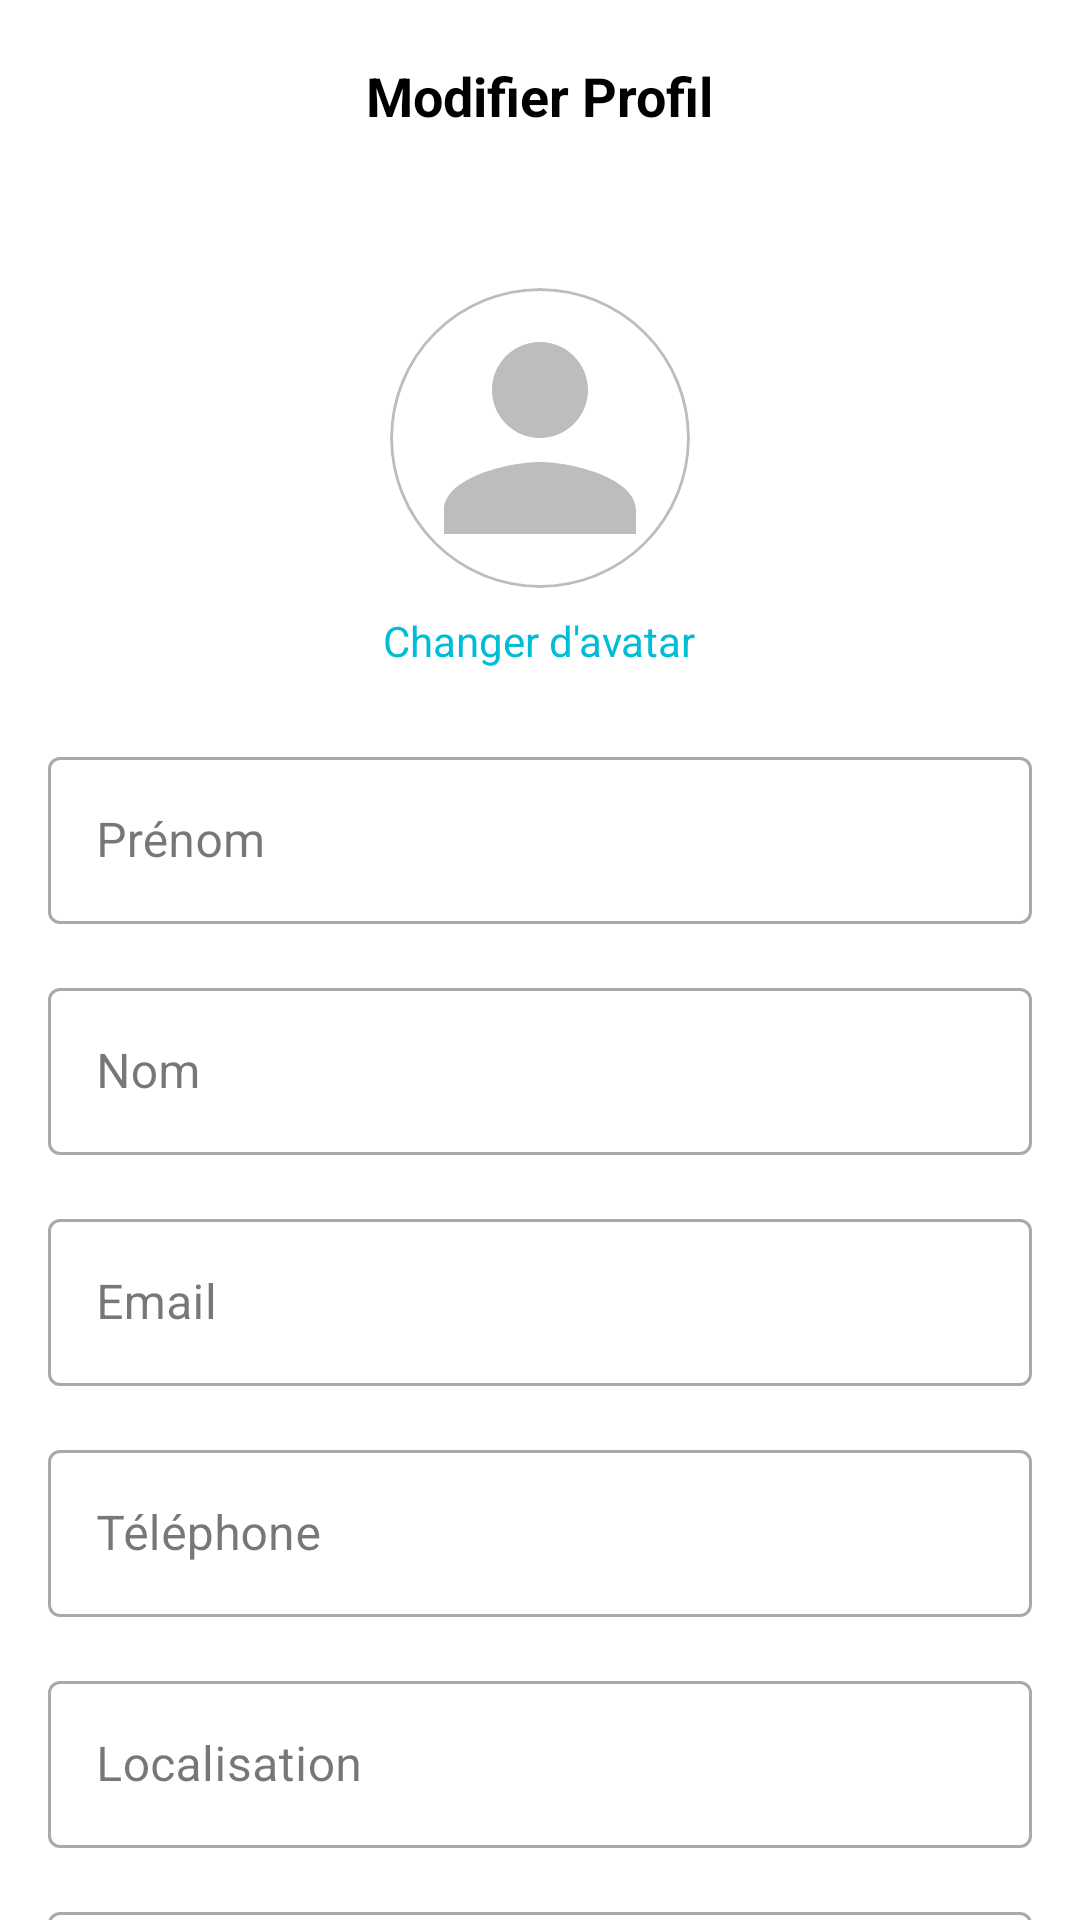

Icon click points for this 1080px x 1920px phone screenshot, format (x=x, y=y):
person: (x=540, y=438)
